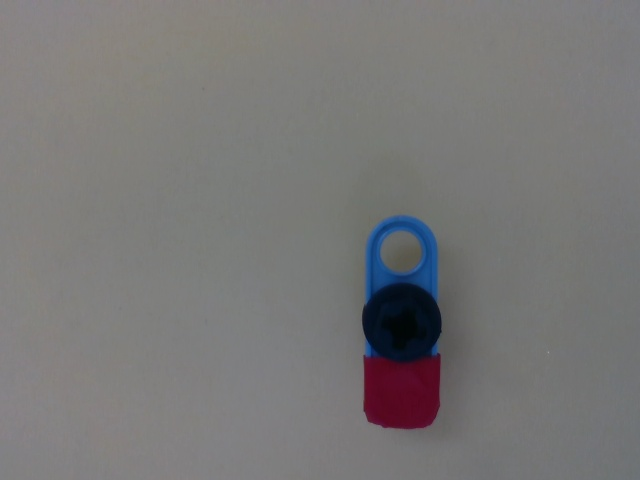part_1_good: (359, 211, 445, 434)
